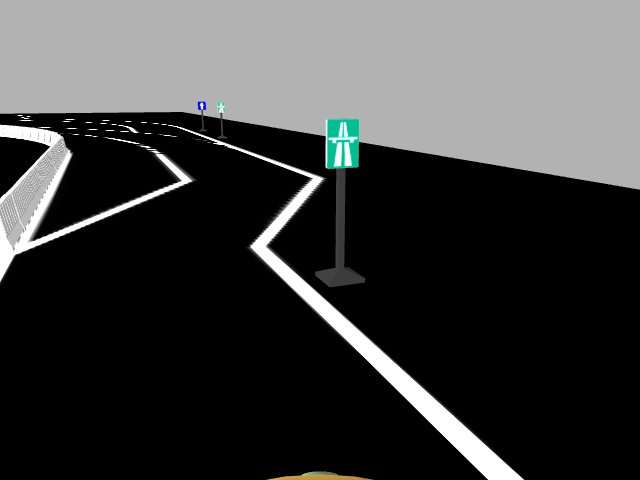HighwayEntrance: (324, 118, 360, 169)
